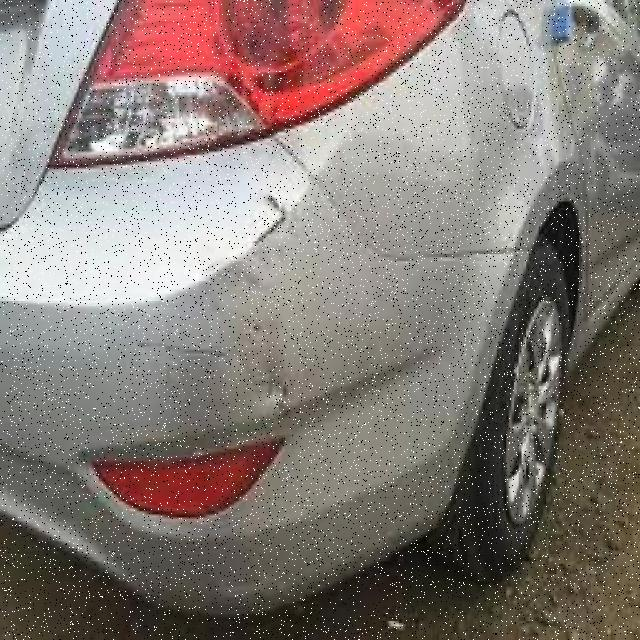damage: (104, 174, 311, 435)
